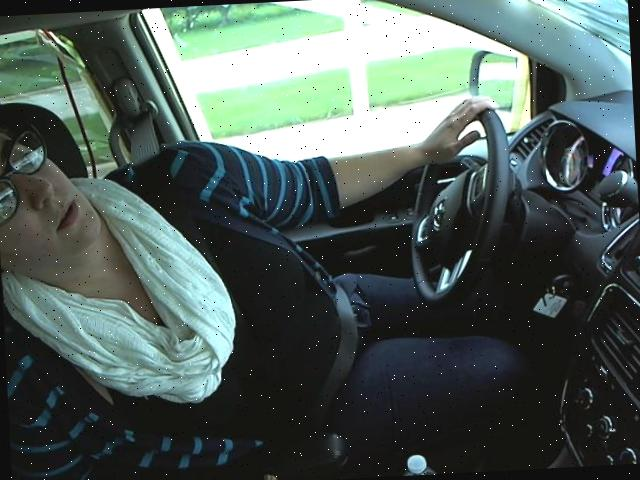c5 - Reaching Behind: (0, 66, 521, 450)
